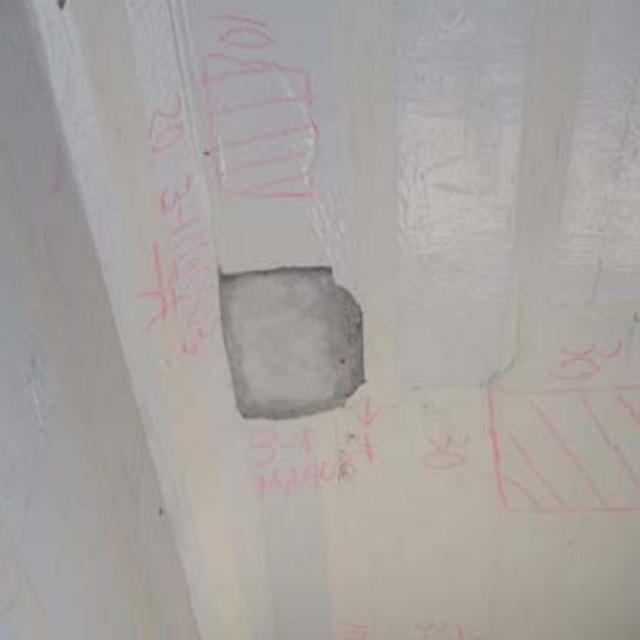spalling: (210, 234, 376, 463)
